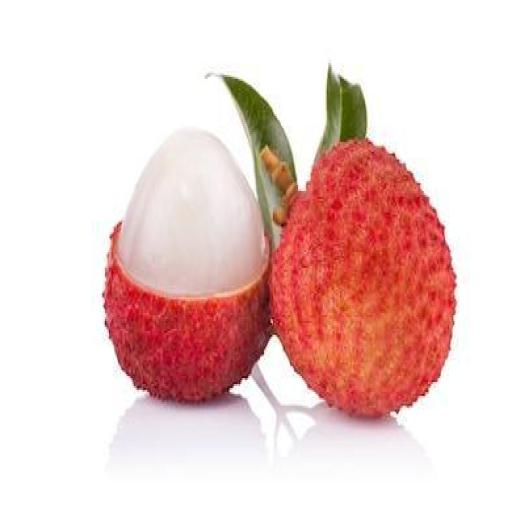lychee: (270, 140, 454, 415), (103, 130, 269, 401)
